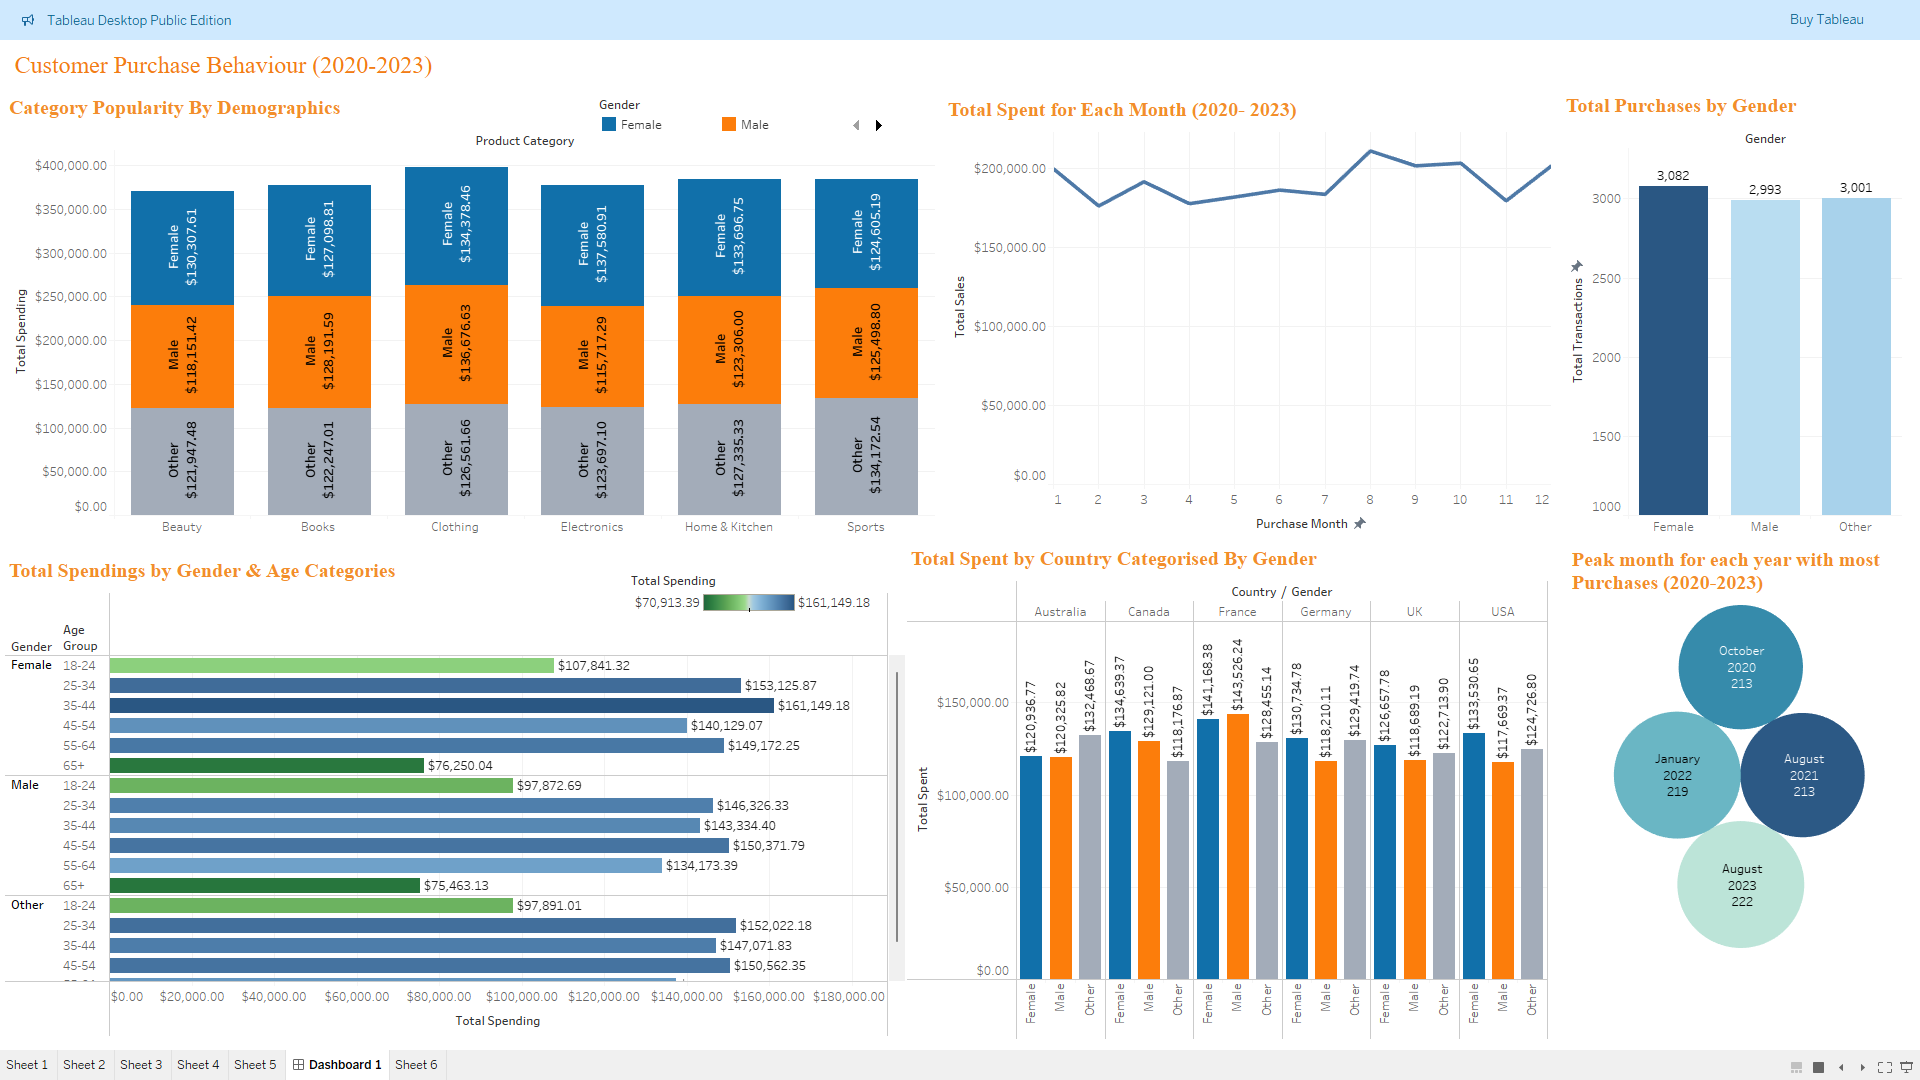

This screenshot's page, from the dashboard's own definition file:
{"tool":"tableau","page":{"name":"Dashboard 1","canvas":[1000,1000],"units":"permille","ordinal":0},"visuals":[{"type":"title","box":[4.6,9.4,990.9,41.2]},{"type":"worksheet","title":"Sheet 4","mark":"Bar","rows":["total_transactions"],"cols":["Gender"],"box":[813.6,49.5,177.2,441.7]},{"type":"worksheet","title":"Sheet 1","mark":"Bar","rows":["total_spending"],"cols":["product_category"],"box":[2.9,51.8,484.3,458.2]},{"type":"worksheet","title":"Sheet 5","mark":"Automatic","rows":["total_sales"],"cols":["purchase_month"],"box":[491.7,53,316.2,440.5]},{"type":"legend","title":"Sheet 6","param":"[federated.1cl1bu708wmh651aqq8vn1tmp0ty].[none:gender:nk]","box":[312.2,55.4,152.1,40.1]},{"type":"worksheet","title":"Sheet 6","mark":"Automatic","rows":["total_spent"],"cols":["country","gender"],"box":[472.3,498.2,333.9,492.3]},{"type":"worksheet","title":"Sheet 3","mark":"Circle","box":[816.5,499.4,178.4,488.8]},{"type":"worksheet","title":"Sheet 2","mark":"Automatic","rows":["Gender","age_group"],"cols":["total_spending"],"box":[2.9,510,468.8,477]},{"type":"legend","title":"Sheet 2","param":"[federated.0se8ojj0vliiuz1ceu17v123c5q3].[sum:total_spending:qk]","box":[328.8,526.5,126.9,77.7]}]}

Visuals, with their boxes on the dashboard's canvas, which has no fixed pixel size, in thousandths of its width and height (x1, y1, x2, y2). These are canvas units, not pixel positions in the 1920x1080 screenshot, which may show the page scaled, cropped or inside an application window:
title: x1=5, y1=9, x2=996, y2=51
"Sheet 4" worksheet (Bar marks): x1=814, y1=50, x2=991, y2=491
"Sheet 1" worksheet (Bar marks): x1=3, y1=52, x2=487, y2=510
"Sheet 5" worksheet: x1=492, y1=53, x2=808, y2=494
"Sheet 6" legend: x1=312, y1=55, x2=464, y2=96
"Sheet 6" worksheet: x1=472, y1=498, x2=806, y2=990
"Sheet 3" worksheet (Circle marks): x1=816, y1=499, x2=995, y2=988
"Sheet 2" worksheet: x1=3, y1=510, x2=472, y2=987
"Sheet 2" legend: x1=329, y1=526, x2=456, y2=604
